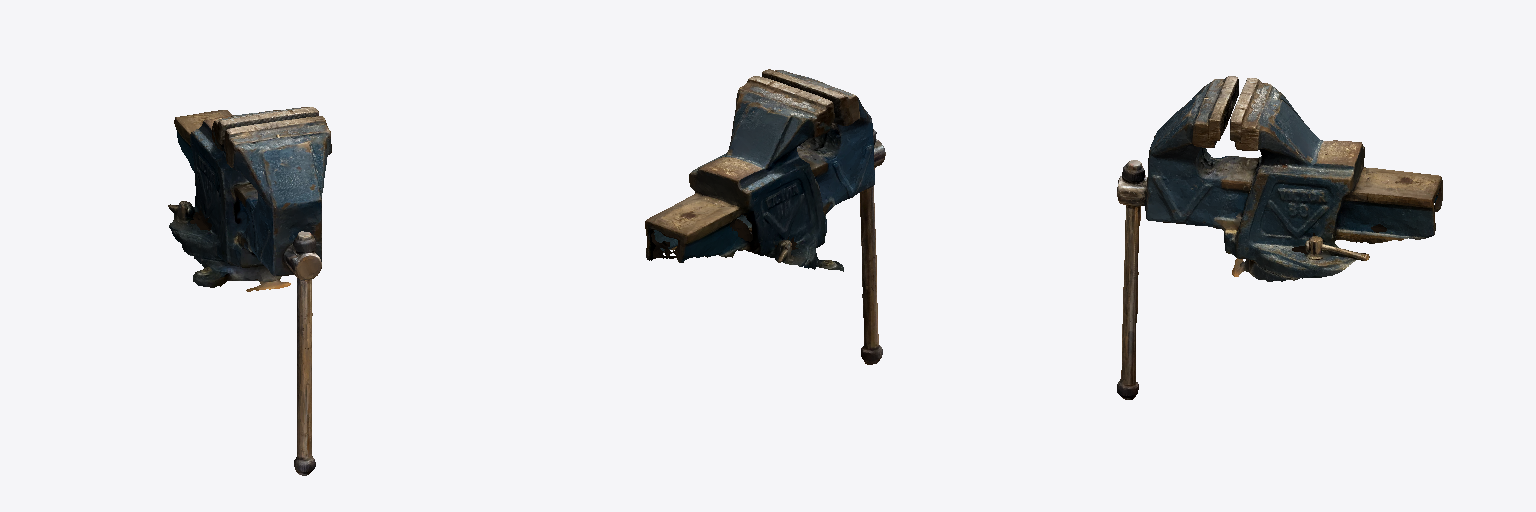
3 views of the same model, side by side, from view 1: azimuth 30°, elevation 25°; view 2: azimuth 150°, elevation 25°; view 3: azimuth 270°, elevation 25° (orthographic).
Bounding box in the file's own units: 0.8516 × 1.83 × 1.74.
7 materials, 7 textured.